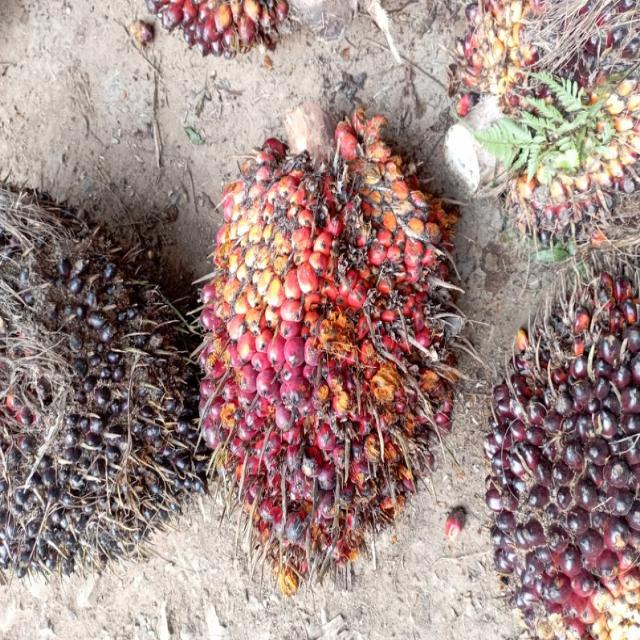fraksi 00: (0, 142, 253, 630)
fraksi 3: (136, 108, 516, 621)
